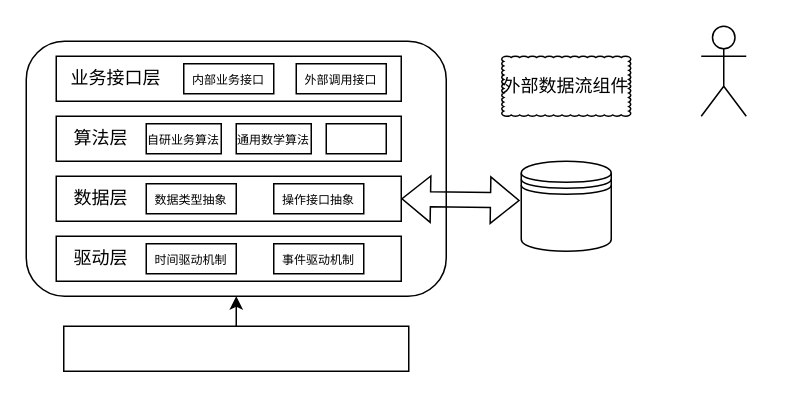
Some shapes in this 786 by 398 pixel diagram are drawn without their labels. Here are the shapes that lost their labels. From the top down, the centre of each, then its label:
pixel 723 70: 下游用户
pixel 355 138: 三方算法
pixel 565 205: 数据库
pixel 235 348: 硬件
